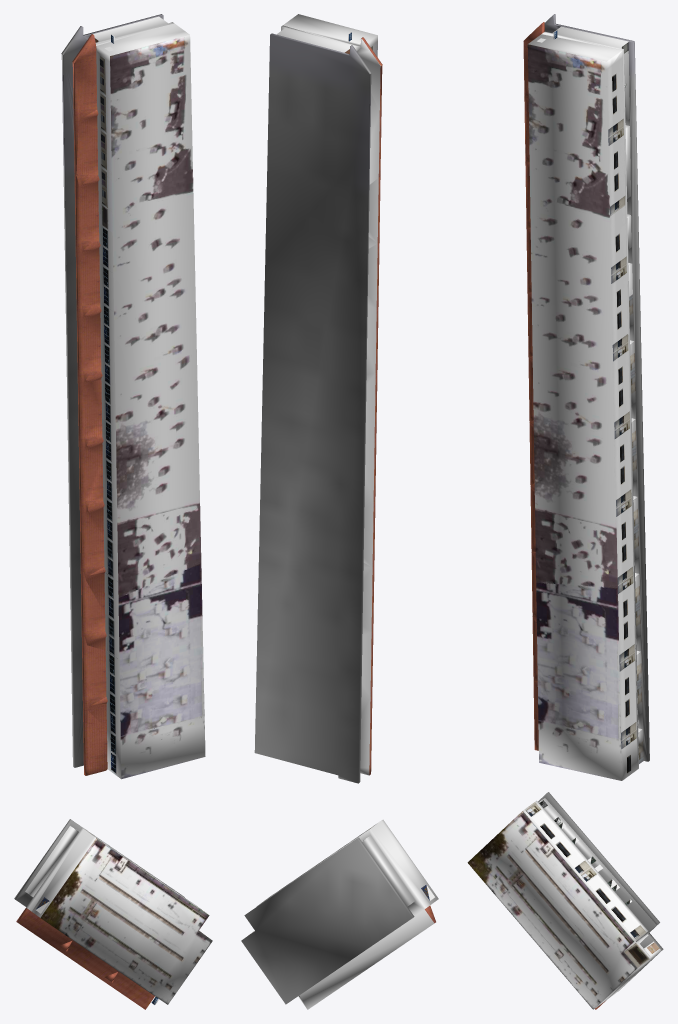
Rendered from amk_blk339_building.obj.
3 views of the same model, side by side, from view 1: azimuth 30°, elevation 25°; view 2: azimuth 150°, elevation 25°; view 3: azimuth 330°, elevation 25° (orthographic).
Visible parts, largest first — view 1: polygon.810; view 2: polygon.810; view 3: polygon.810.
Part boxes in pixels (x1,y1,x2,y2): polygon.810: [14, 14, 212, 1009]; polygon.810: [241, 14, 438, 1009]; polygon.810: [467, 14, 663, 1009].
Bounding box in the file's own units: 29.32 × 152 × 8.5.
Materials: 1 (1 with a texture image).
